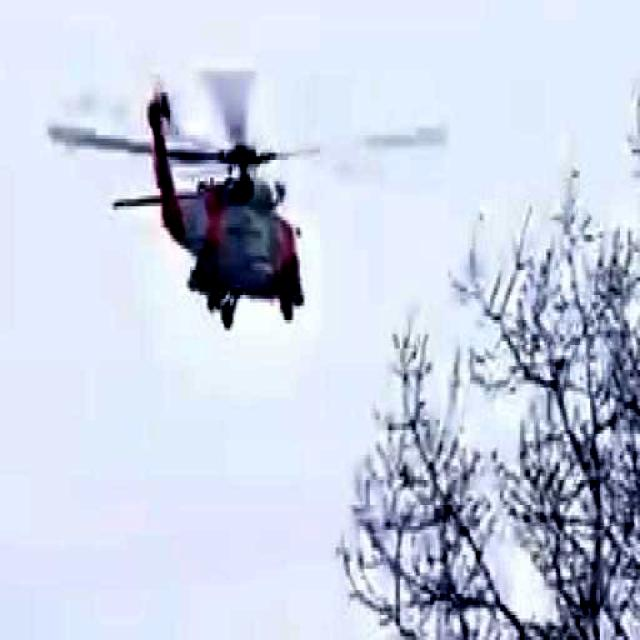drone: (78, 40, 394, 322)
